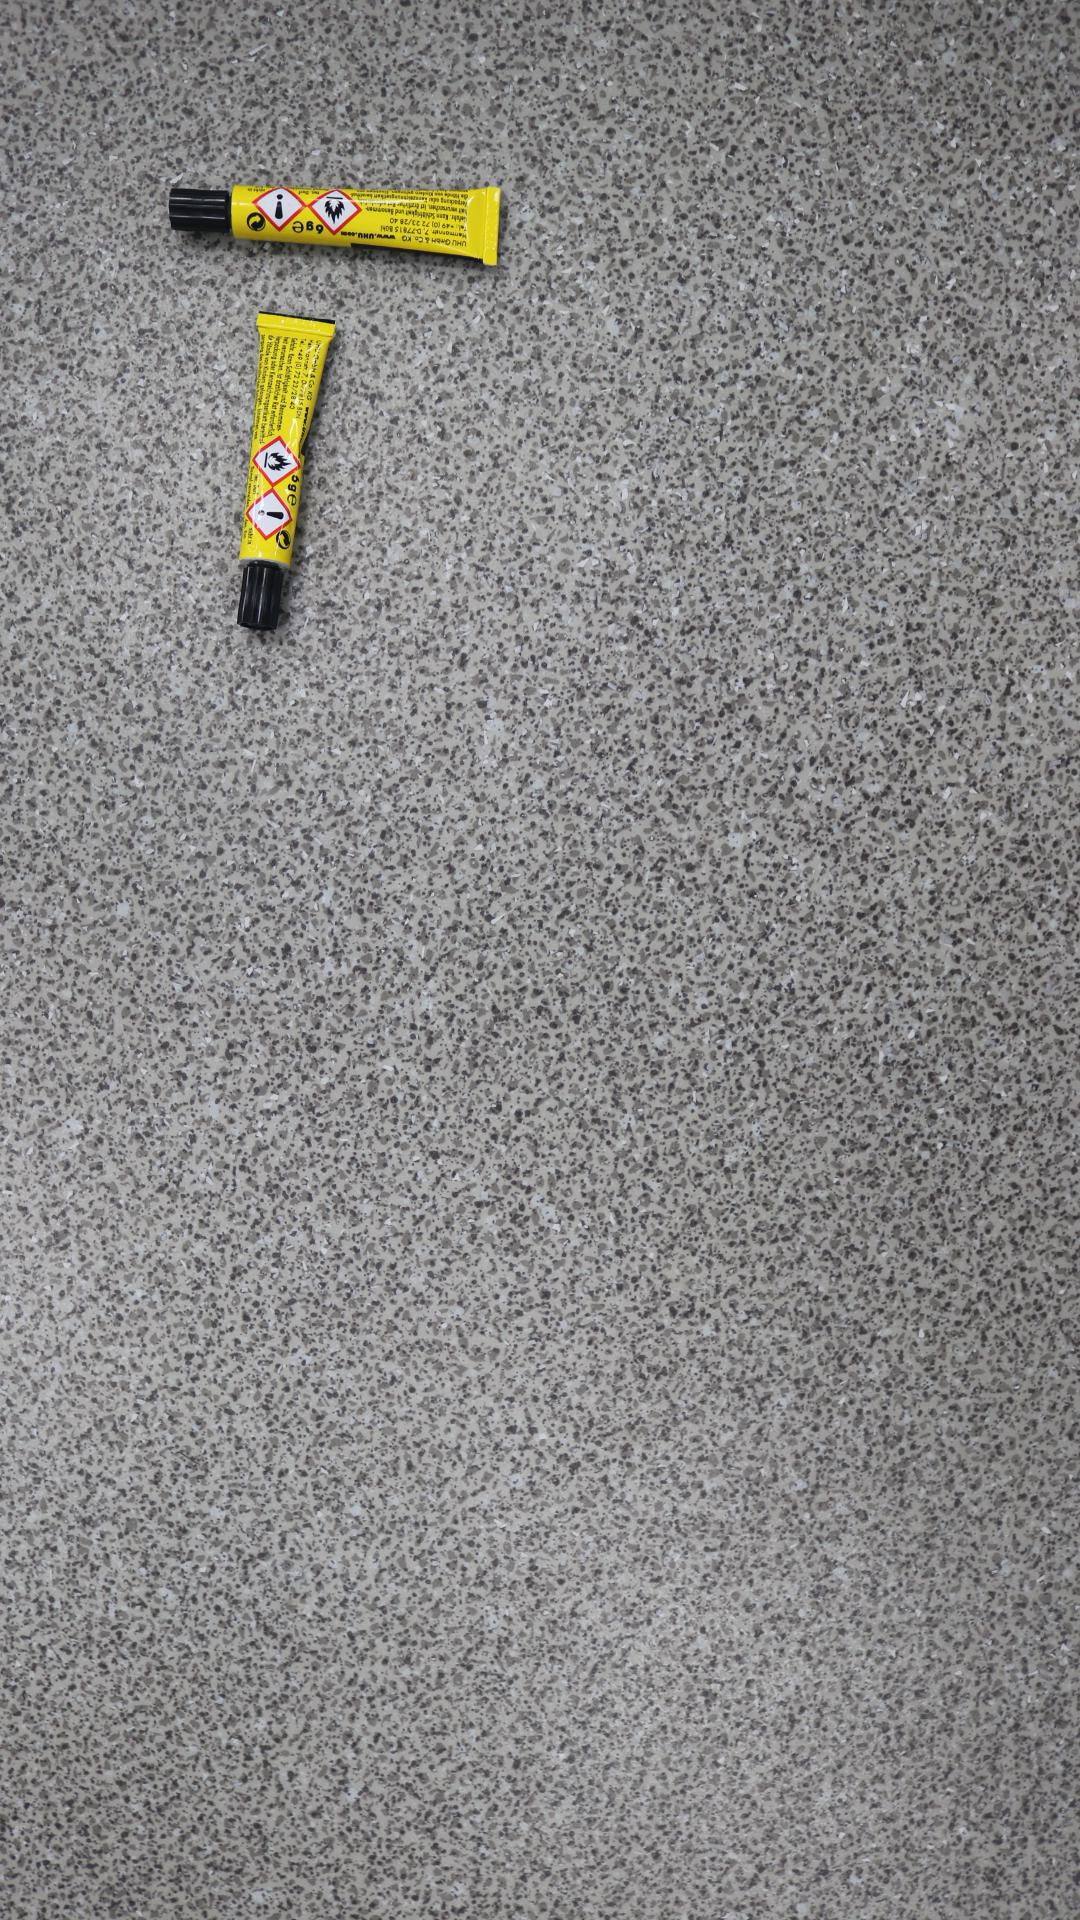Head: (257, 590, 265, 599), (196, 203, 204, 210)
Tail: (293, 321, 300, 328), (489, 222, 495, 230)
Tube: (236, 310, 335, 631), (167, 184, 500, 266)
